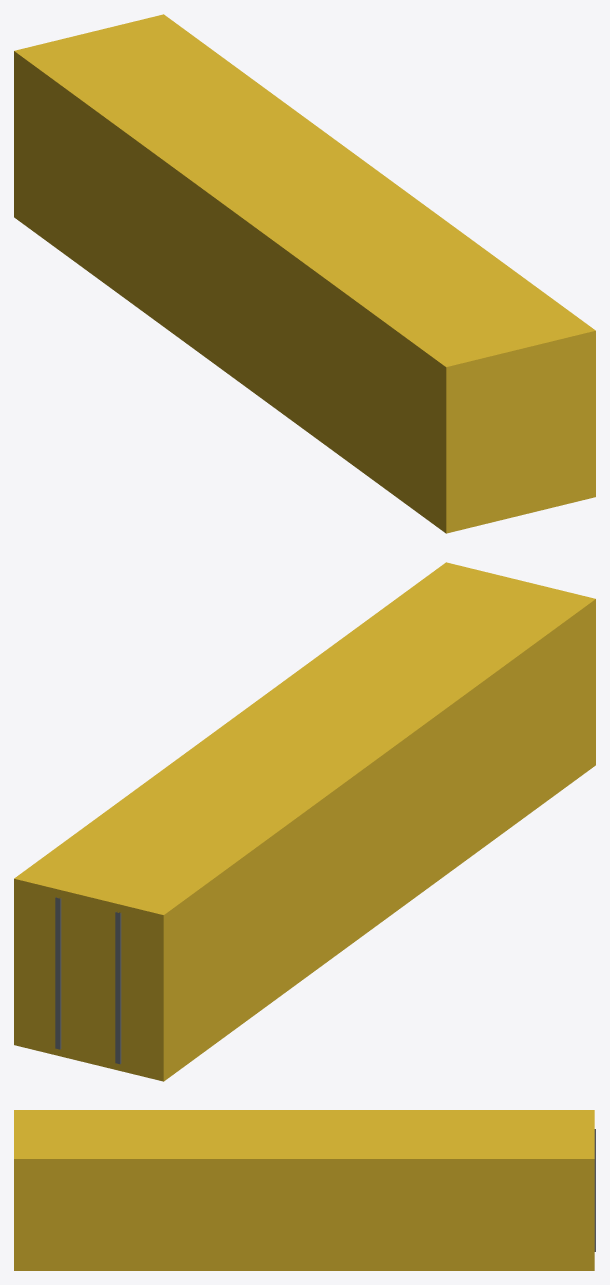
3 renders of one model, top to bottom at view 1: azimuth 30°, elevation 25°; view 2: azimuth 150°, elevation 25°; view 3: azimuth 270°, elevation 25°, orthographic. The views are drawn at different scales.
Visible parts, largest first — view 1: 417; view 2: 417; view 3: 417.
Part boxes in pixels (left/top/right/bottom): 417: left=14, top=14, right=595, bottom=533; 417: left=14, top=562, right=595, bottom=1081; 417: left=14, top=1110, right=595, bottom=1270.
Bounding box in the file's own units: 2.44 × 2.59 × 12.22.
